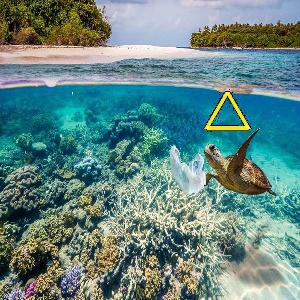triangle: (200, 87, 255, 134)
